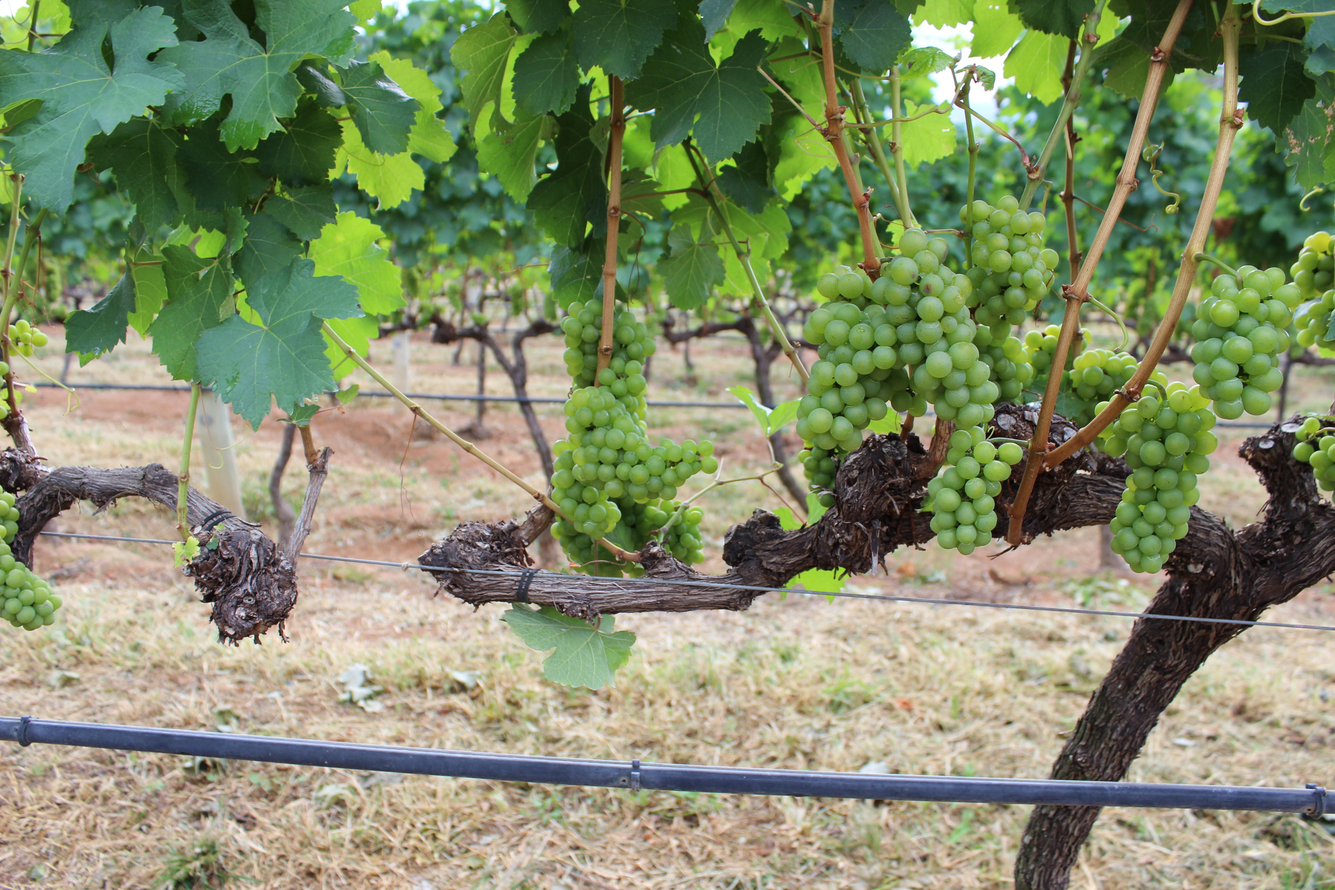leaf: (0, 0, 183, 211), (159, 0, 356, 150), (197, 259, 363, 428), (626, 15, 770, 162), (526, 85, 607, 247), (148, 244, 233, 380), (501, 604, 636, 689), (87, 117, 182, 231), (308, 211, 406, 315), (370, 50, 456, 162), (177, 118, 267, 213), (572, 0, 678, 79), (336, 121, 425, 209), (255, 99, 343, 187), (451, 12, 517, 128), (342, 61, 421, 154), (1238, 41, 1315, 133), (66, 271, 135, 364), (477, 114, 544, 202), (657, 226, 724, 311), (834, 0, 912, 73), (513, 31, 579, 116), (234, 207, 303, 288), (1003, 29, 1068, 104), (718, 140, 776, 213), (264, 185, 337, 241), (549, 239, 603, 309), (127, 250, 167, 336), (1011, 0, 1096, 40), (970, 0, 1024, 58), (506, 0, 570, 34), (699, 0, 737, 41), (689, 13, 698, 23), (269, 200, 273, 206), (701, 29, 703, 39), (28, 106, 32, 108), (683, 16, 686, 18), (285, 264, 285, 264), (660, 268, 660, 271)
